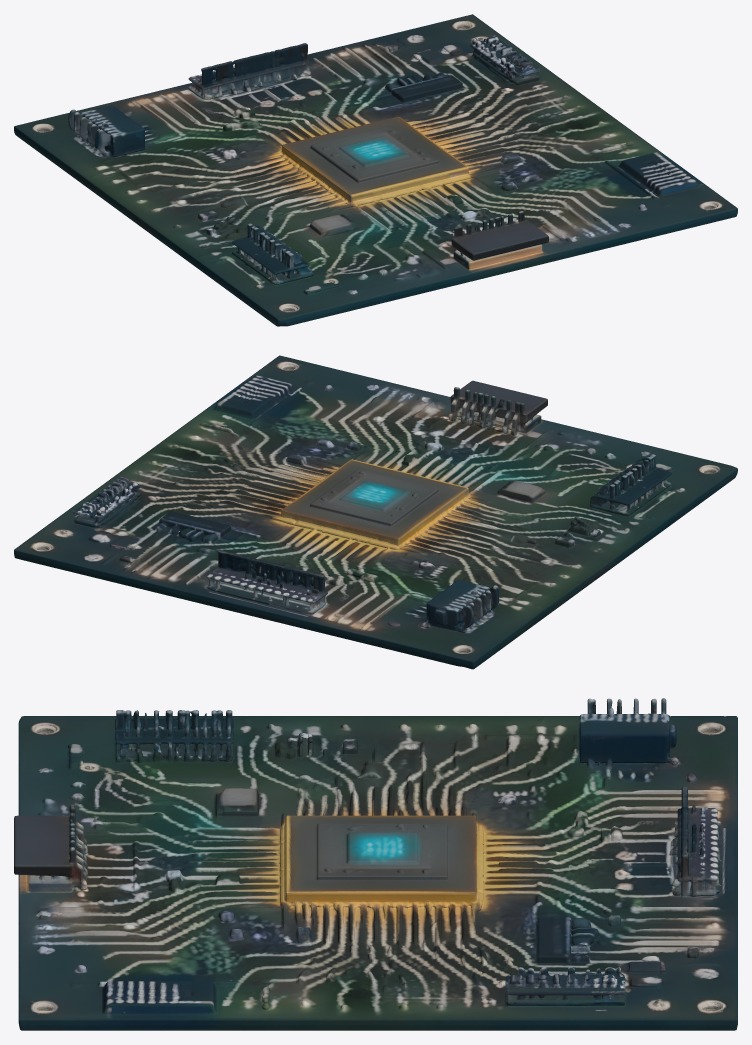
Rendered from circuit+board+3d+model.glb.
The picture shows the model from 3 angles, top to bottom: view 1: azimuth 30°, elevation 25°; view 2: azimuth 150°, elevation 25°; view 3: azimuth 270°, elevation 25°; orthographic projection. The views are drawn at different scales.
Visible parts, largest first — view 1: tripo_node_d6d7d373-cab1-40a9-a09e-546e4a3915f5; view 2: tripo_node_d6d7d373-cab1-40a9-a09e-546e4a3915f5; view 3: tripo_node_d6d7d373-cab1-40a9-a09e-546e4a3915f5.
Boxes of the visible parts, x1=… form: tripo_node_d6d7d373-cab1-40a9-a09e-546e4a3915f5: x1=14, y1=14, x2=737, y2=326; tripo_node_d6d7d373-cab1-40a9-a09e-546e4a3915f5: x1=14, y1=355, x2=737, y2=669; tripo_node_d6d7d373-cab1-40a9-a09e-546e4a3915f5: x1=14, y1=698, x2=737, y2=1030.
Size of the model in its own units: 0.9925 by 0.0924 by 1.
Materials: 1 (1 with a texture image).
